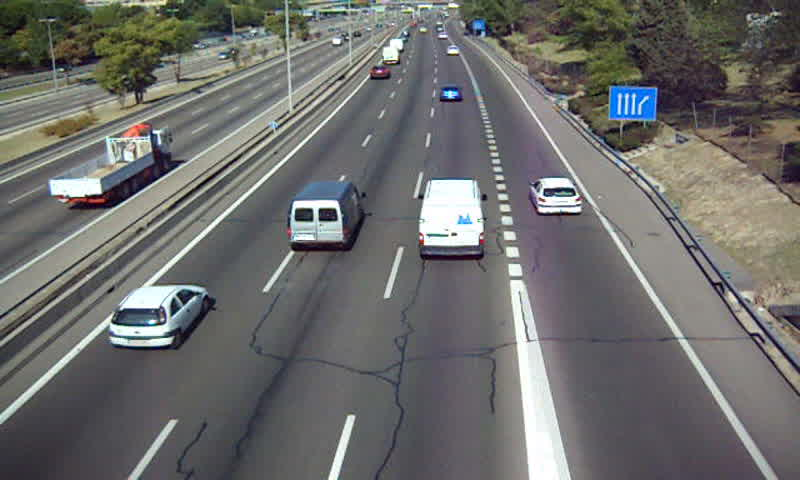car: (108, 284, 212, 352), (530, 177, 584, 214), (439, 85, 464, 102), (368, 65, 390, 80)
van: (290, 180, 366, 250), (418, 179, 484, 257), (382, 46, 400, 65)
